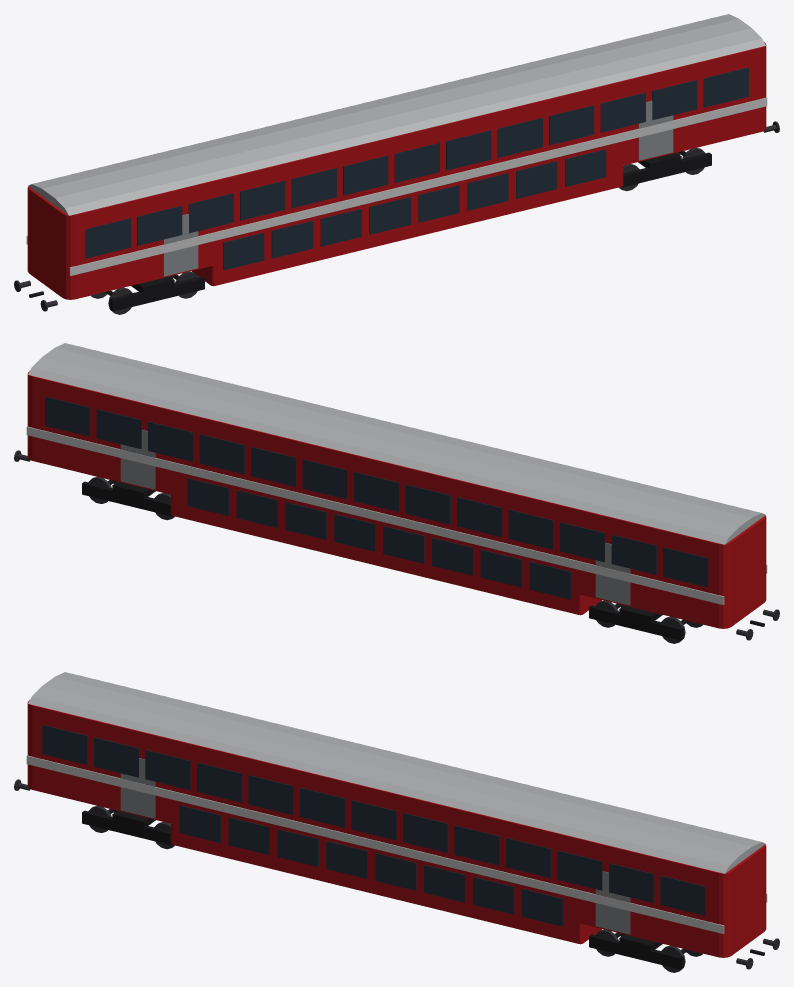
File: electric_coach.obj
3 renders of one model, top to bottom at view 1: azimuth 30°, elevation 25°; view 2: azimuth 150°, elevation 25°; view 3: azimuth 330°, elevation 25°, orthographic.
Bounding box in the file's own units: 27.8 × 4.6 × 2.86.
